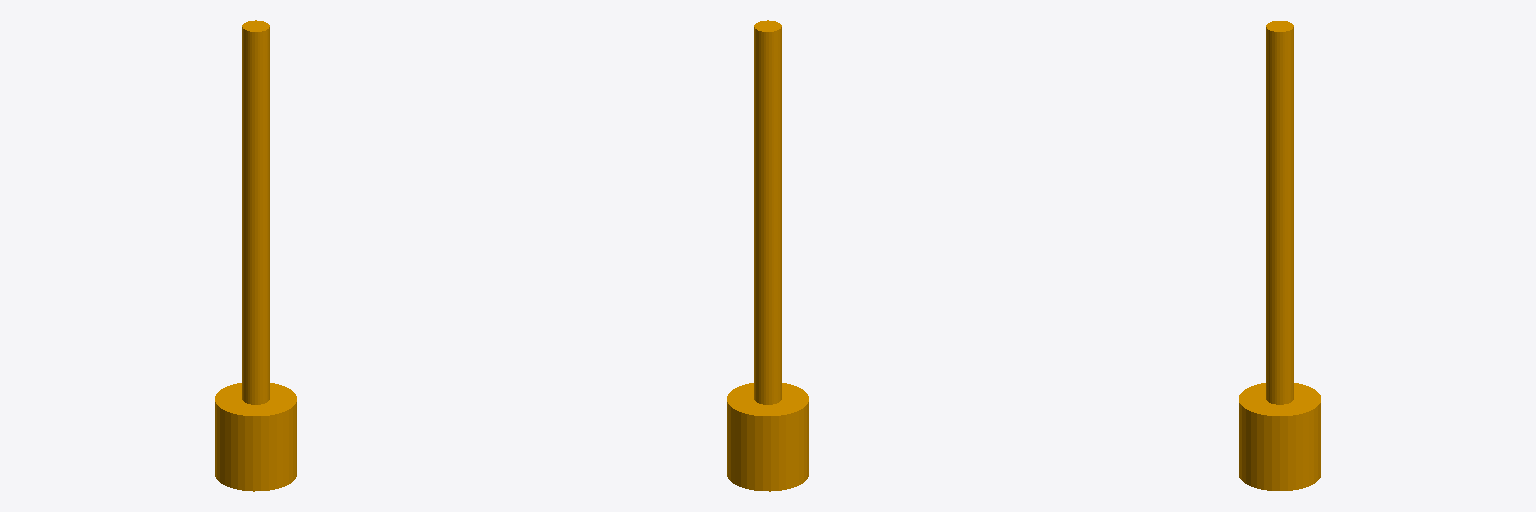
The robot description file, URDF, robot "simple_tool":
<robot name="simple_tool">
  <link name="my_tool">
    <inertial>
      <origin xyz="0 0 0" />
      <mass value="1.0" />
      <inertia  ixx="0.0" ixy="0.0"  ixz="0.0"  iyy="0.0"  iyz="0.0"  izz="0.0" />
    </inertial>
    <visual>
      <origin xyz="0 0 0"/>
      <geometry>
        <mesh filename="package://affordance_experiment/models/stick.dae" />
      </geometry>
    </visual>
    <collision>
      <origin xyz="0 0 0"/>
      <geometry>
        <mesh filename="package://affordance_experiment/models/stick.dae" />
      </geometry>
    </collision>
  </link>
  <gazebo reference="my_tool">
    <material>Gazebo/Blue</material>
  </gazebo>
</robot>

--- What the picture shows (computed from the rendered views, not written in the file) ---
Views: 3 orthographic renders of the robot side by side, from view 1: azimuth 30°, elevation 25°; view 2: azimuth 150°, elevation 25°; view 3: azimuth 270°, elevation 25°.
Model simple_tool with 1 links and 0 joints (none), rooted at my_tool, posed every joint at zero.
Visible links, largest first — view 1: my_tool; view 2: my_tool; view 3: my_tool.
Boxes of the visible links, x1=… form: my_tool: x1=215, y1=20, x2=296, y2=491; my_tool: x1=727, y1=20, x2=808, y2=491; my_tool: x1=1239, y1=21, x2=1320, y2=490.
Bounding box of the posed robot: 0.03 × 0.03 × 0.179 m (x, y, z).
1 mesh visuals loaded from 1 distinct referenced files (1 Collada DAE).